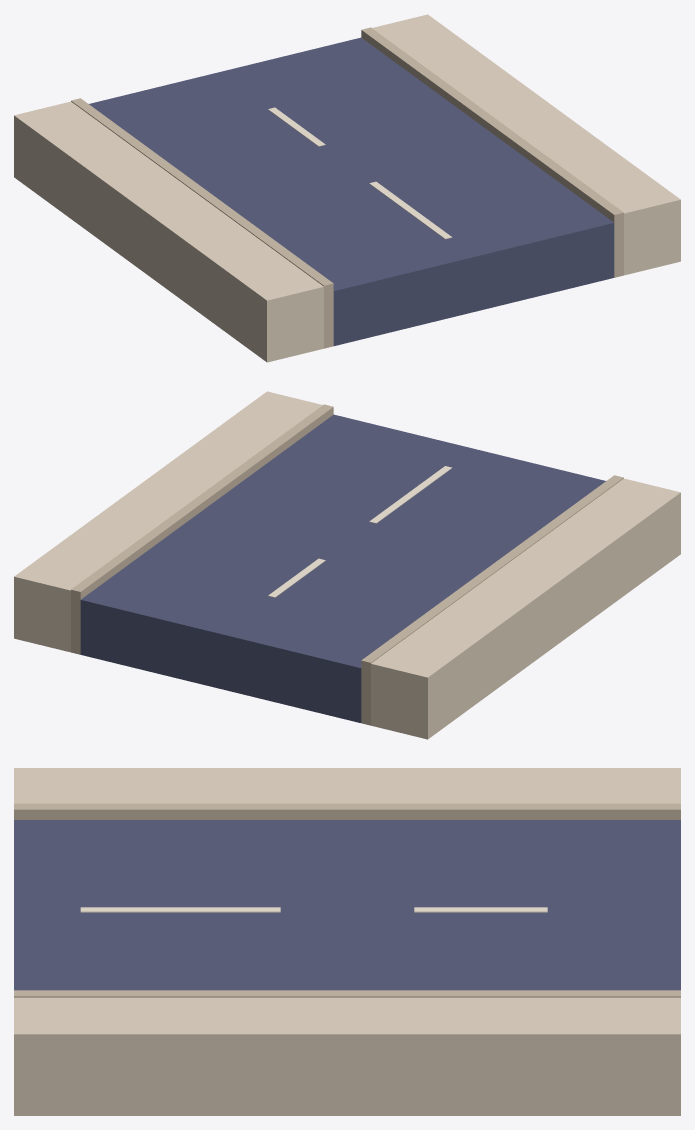
The model's file is road_straight.glb.
The picture shows the model from 3 angles, top to bottom: view 1: azimuth 30°, elevation 25°; view 2: azimuth 150°, elevation 25°; view 3: azimuth 270°, elevation 25°; orthographic projection. The views are drawn at different scales.
Visible parts, largest first — view 1: road_straight; view 2: road_straight; view 3: road_straight.
Boxes of the visible parts, left/top/right/bottom form: road_straight: left=14, top=14, right=680, bottom=362; road_straight: left=14, top=391, right=680, bottom=739; road_straight: left=14, top=768, right=680, bottom=1115.
Size of the model in its own units: 9.44 by 1.37 by 10.
